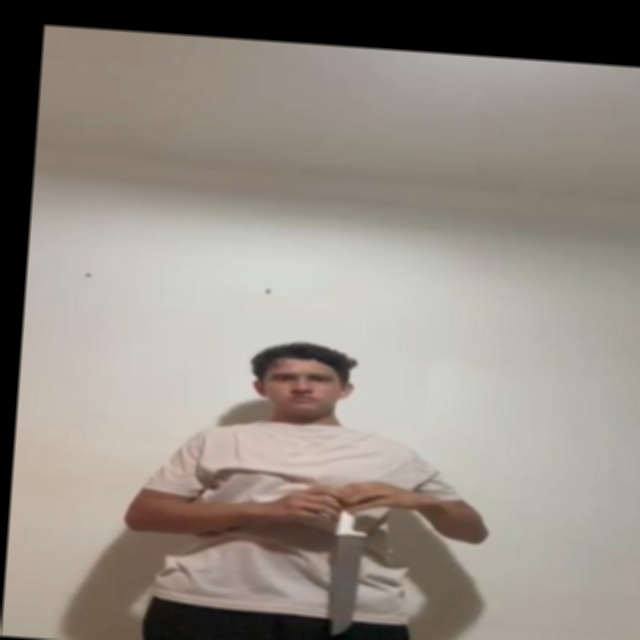Sharp-Object: (329, 536, 371, 637)
